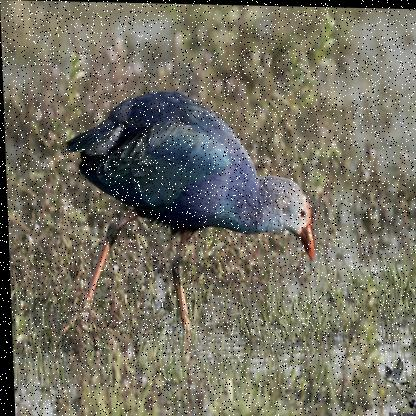Burung: (49, 83, 317, 376)
